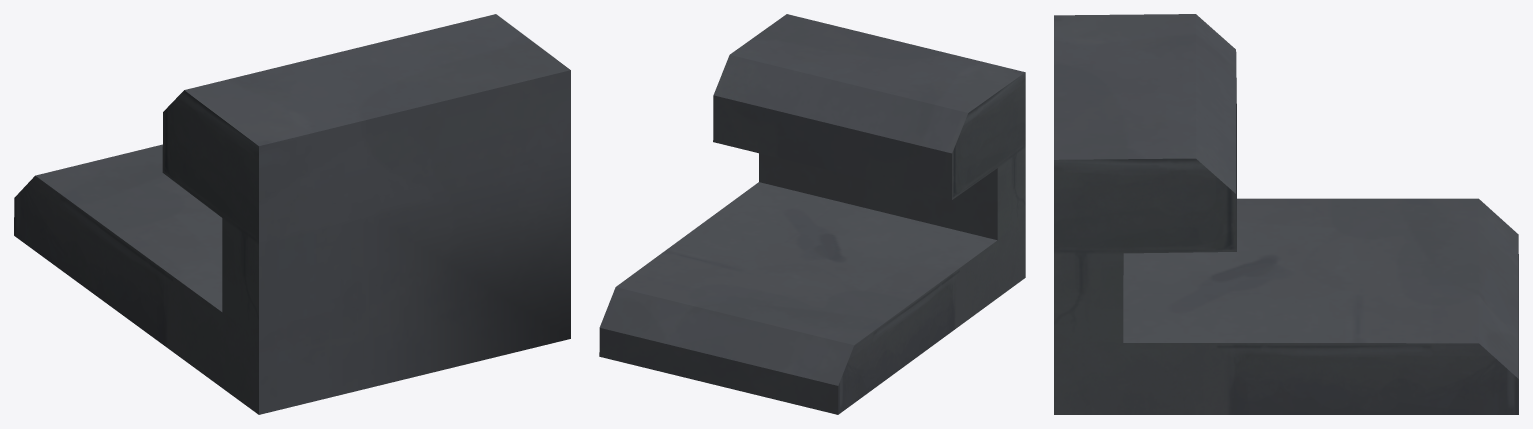
File: SM_Rubble_Corner_01.fbx
3 renders of one model, left to right at view 1: azimuth 30°, elevation 25°; view 2: azimuth 150°, elevation 25°; view 3: azimuth 270°, elevation 25°, orthographic. The views are drawn at different scales.
Visible parts, largest first — view 1: SM_Rubble_Corner_01; view 2: SM_Rubble_Corner_01; view 3: SM_Rubble_Corner_01.
Part boxes in pixels (x1,y1,x2,y2): SM_Rubble_Corner_01: [14, 14, 570, 414]; SM_Rubble_Corner_01: [599, 14, 1025, 414]; SM_Rubble_Corner_01: [1054, 14, 1518, 414].
Bounding box in the file's own units: 95.83 × 79.31 × 130.
